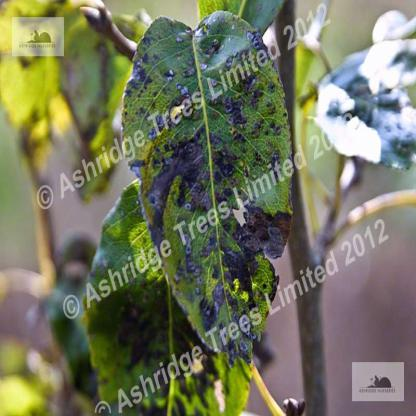apple scab leaf: (119, 9, 288, 371)
